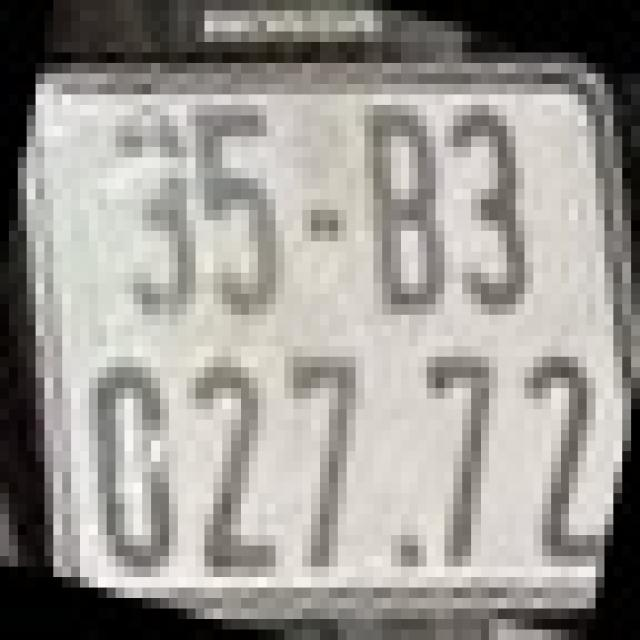0: (89, 362, 178, 572)
2: (191, 362, 280, 572), (524, 352, 604, 562)
3: (111, 105, 200, 315), (449, 105, 529, 315)
5: (196, 105, 284, 315)
7: (289, 351, 360, 572), (422, 346, 493, 567)
B: (360, 105, 449, 315)
